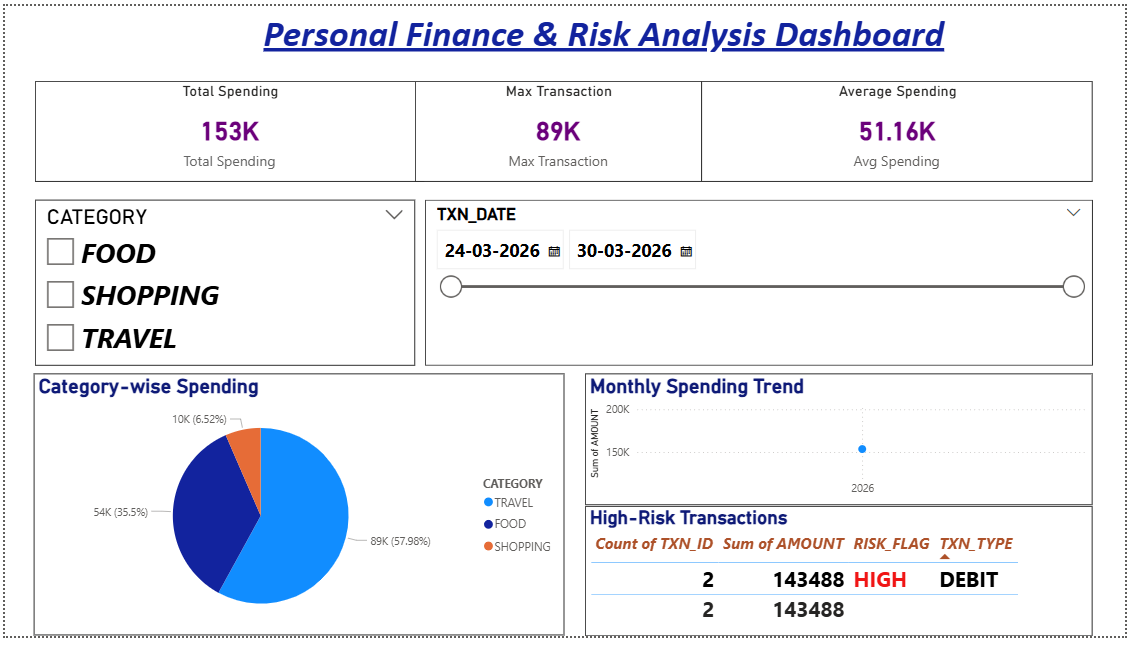

This screenshot's page, from the dashboard's own definition file:
{"tool":"powerbi","page":{"name":"Page 1","canvas":[1280,720],"ordinal":0},"visuals":[{"type":"pieChart","title":"Category-wise Spending","fields":{"Category":["Query1.CATEGORY"],"Y":["Sum(Query1.AMOUNT)"]},"box":[33,420.7,606.5,299.6],"z":0},{"type":"lineChart","title":"Monthly Spending Trend","fields":{"Category":["Query1.TXN_DATE.Variation.Date Hierarchy.Year","Query1.TXN_DATE.Variation.Date Hierarchy.Quarter","Query1.TXN_DATE.Variation.Date Hierarchy.Month","Query1.TXN_DATE.Variation.Date Hierarchy.Day"],"Y":["Sum(Query1.AMOUNT)"]},"box":[662.8,420.7,579.6,150.4],"z":1000},{"type":"tableEx","title":"High-Risk Transactions","fields":{"Values":["CountNonNull(Query1.TXN_ID)","Sum(Query1.AMOUNT)","Query1.RISK_FLAG","Query1.TXN_TYPE"]},"box":[662.8,571.1,579.6,149.2],"z":2000},{"type":"card","title":"Total Spending","fields":{"Values":["Query1.Total Spending"]},"box":[34.2,85.6,445.1,114.9],"z":3000},{"type":"card","title":"Max Transaction","fields":{"Values":["Query1.Max Transaction"]},"box":[468.3,85.6,327.7,114.9],"z":4000},{"type":"card","title":"Average Spending","fields":{"Values":["Query1.Avg Spending"]},"box":[796.1,85.6,447.6,114.9],"z":5000},{"type":"slicer","fields":{"Values":["Query1.CATEGORY"]},"box":[34.2,221.3,434.1,189.5],"z":6000},{"type":"slicer","fields":{"Values":["Query1.TXN_DATE"]},"box":[479.4,221.3,763,189.5],"z":7000},{"type":"textbox","box":[88.3,0,1191.7,85],"z":8000}]}

Visuals, with their boxes in screenshot pixels (x1, y1, x2, y2):
"Category-wise Spending" pieChart: {"left": 29, "top": 373, "right": 562, "bottom": 636}
"Monthly Spending Trend" lineChart: {"left": 583, "top": 373, "right": 1092, "bottom": 505}
"High-Risk Transactions" tableEx: {"left": 583, "top": 505, "right": 1092, "bottom": 636}
"Total Spending" card: {"left": 30, "top": 78, "right": 421, "bottom": 179}
"Max Transaction" card: {"left": 412, "top": 78, "right": 700, "bottom": 179}
"Average Spending" card: {"left": 700, "top": 78, "right": 1093, "bottom": 179}
slicer - Query1.CATEGORY: {"left": 30, "top": 198, "right": 412, "bottom": 364}
slicer - Query1.TXN_DATE: {"left": 421, "top": 198, "right": 1092, "bottom": 364}
textbox: {"left": 78, "top": 3, "right": 1125, "bottom": 78}
